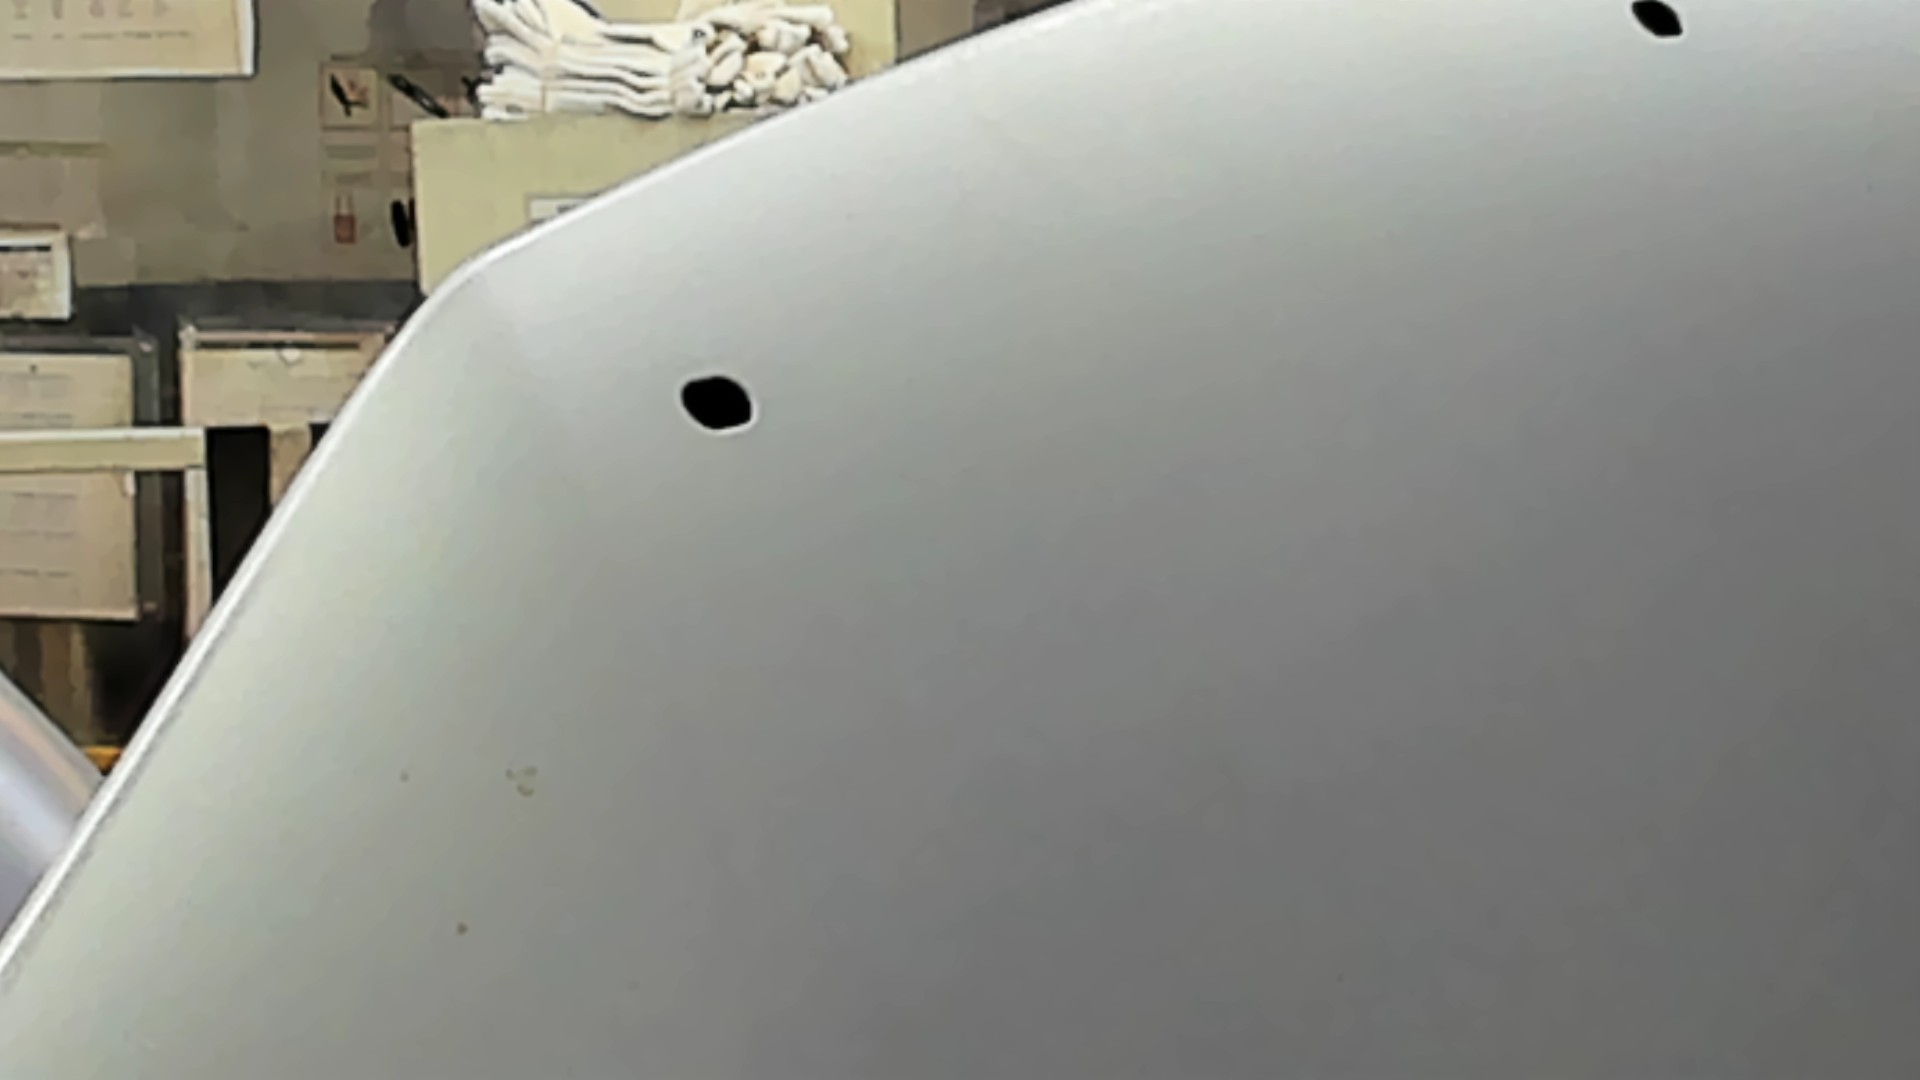amorfo: (673, 368, 764, 440), (1627, 1, 1691, 41)
